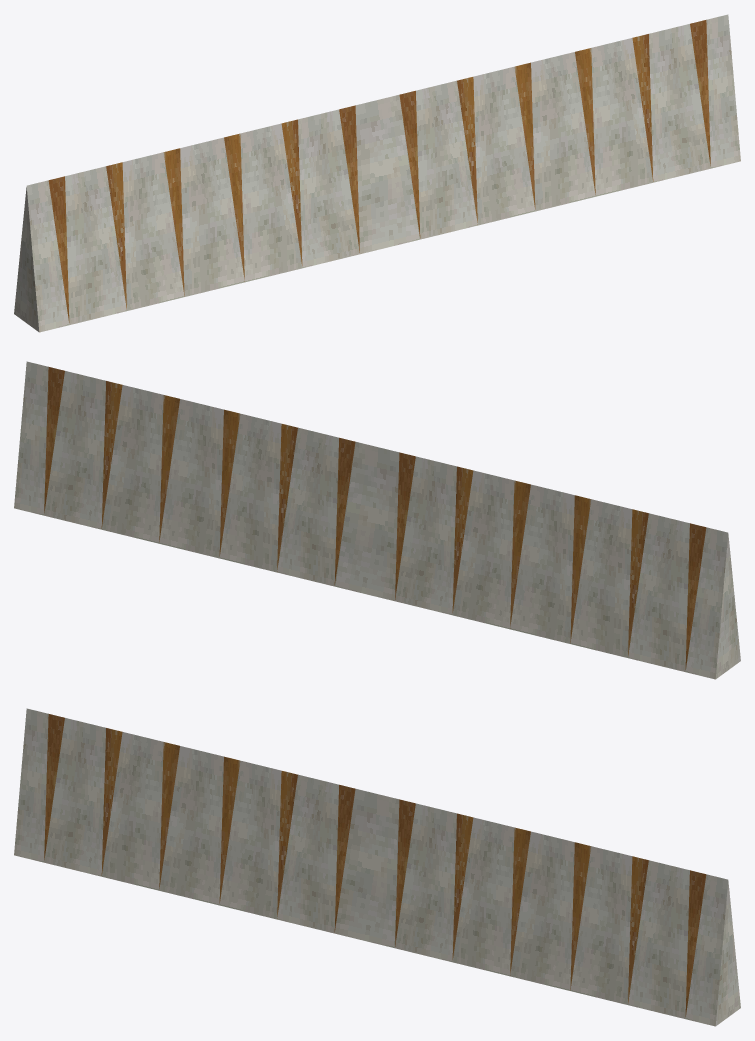
File: mun_all_military_wall_med_rebl_32_s01_l2.fbx
3 views of the same model, one above another, from view 1: azimuth 30°, elevation 25°; view 2: azimuth 150°, elevation 25°; view 3: azimuth 330°, elevation 25° (orthographic).
Parts seen in each view (by area): view 1: mesh_node; view 2: mesh_node; view 3: mesh_node.
Part boxes in pixels (x1,y1,x2,y2): mesh_node: [14, 14, 740, 332]; mesh_node: [14, 361, 740, 679]; mesh_node: [14, 708, 740, 1026].
Size of the model in its own units: 32 by 6 by 2.
